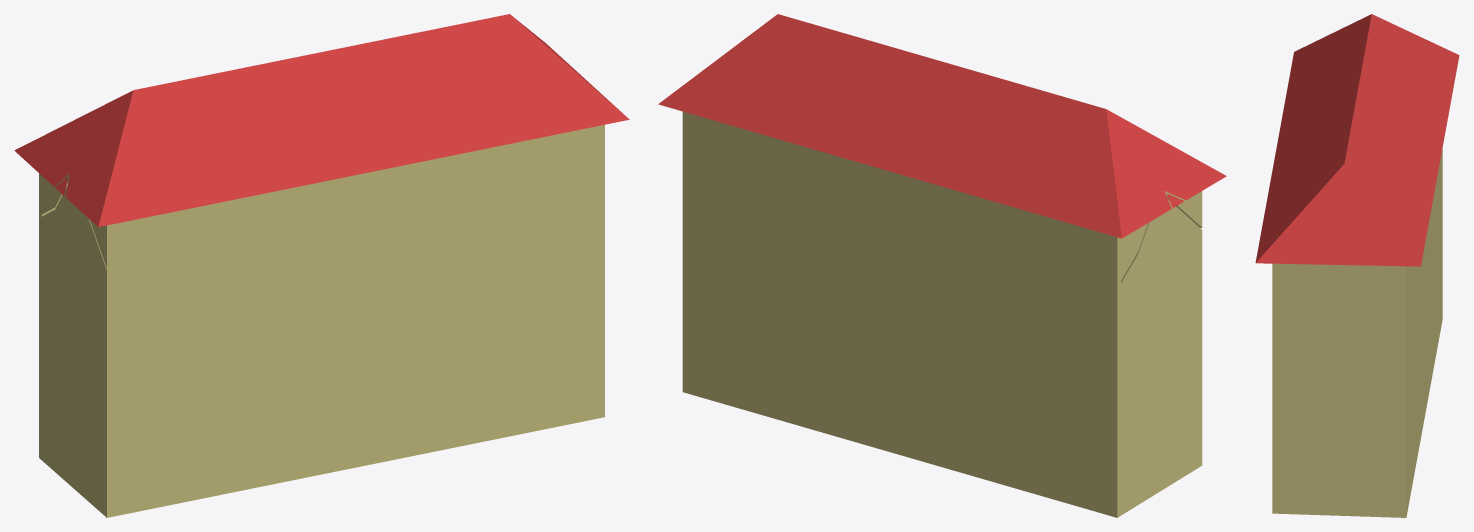
3 views of the same model, side by side, from view 1: azimuth 30°, elevation 25°; view 2: azimuth 150°, elevation 25°; view 3: azimuth 270°, elevation 25° (orthographic). The views are drawn at different scales.
Bounding box in the file's own units: 24.45 × 9.73 × 17.25.
